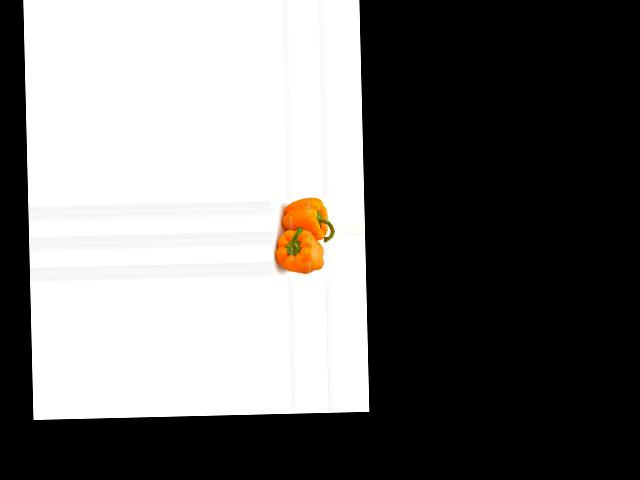bell_pepper: (280, 196, 332, 245)
